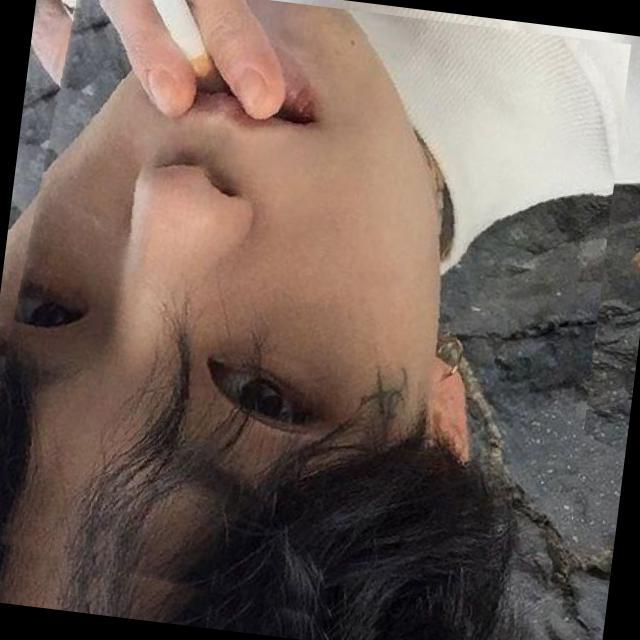cigarette: (20, 0, 223, 160)
